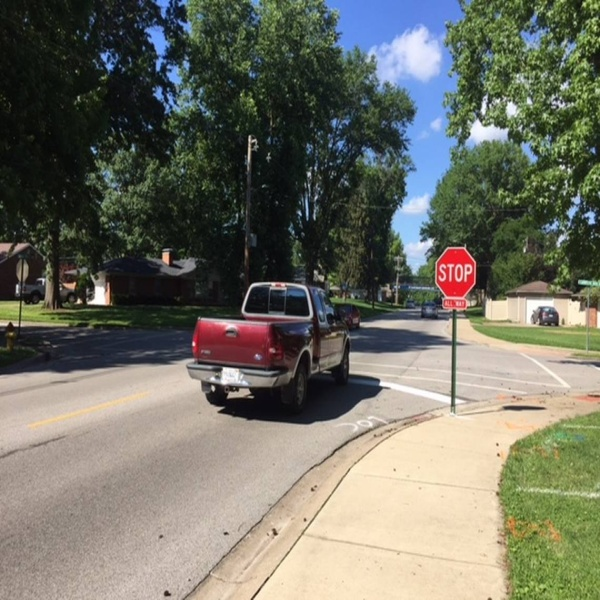stop: (432, 247, 480, 308)
